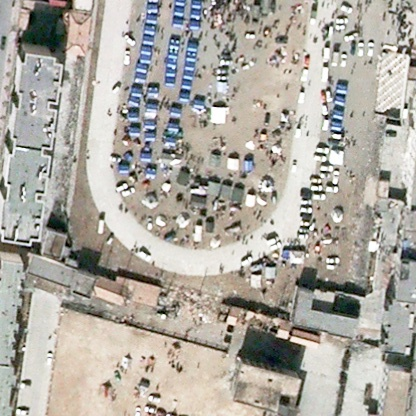collapsed: (159, 279, 222, 325), (234, 306, 280, 338)
